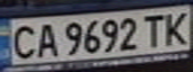2: (115, 14, 142, 52)
6: (81, 17, 103, 55)
9: (60, 19, 84, 56), (100, 16, 121, 53)
A: (30, 20, 60, 58)
C: (3, 21, 39, 61)
K: (160, 8, 193, 46)
T: (139, 11, 169, 48)
